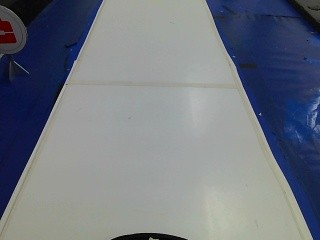company: (0, 4, 26, 61)
